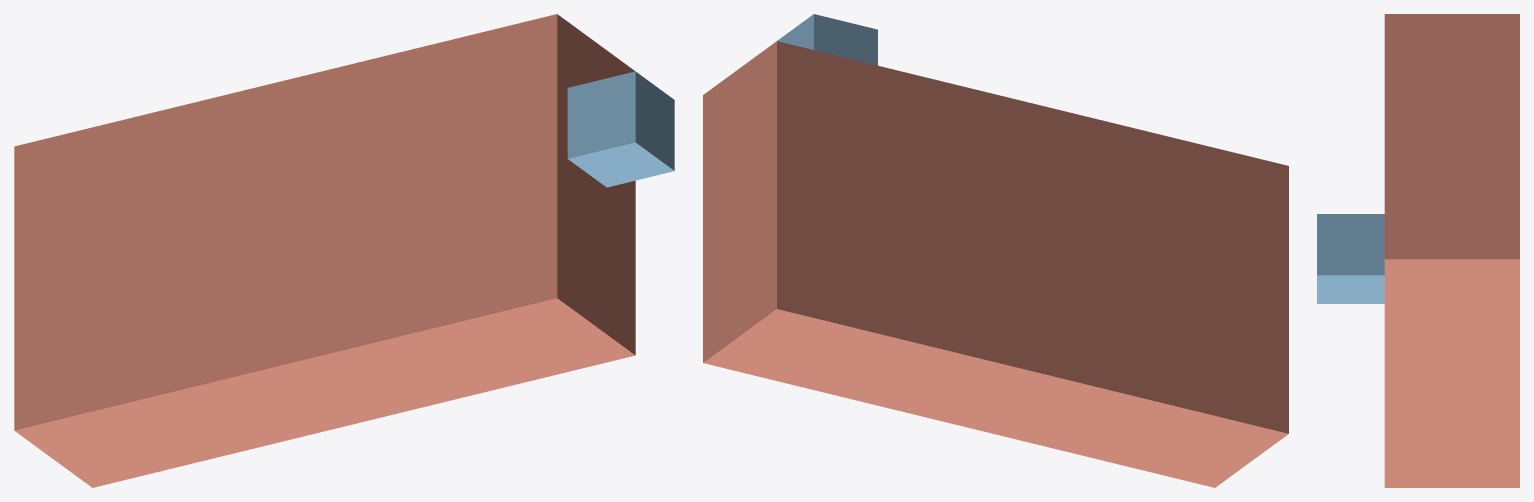
File: asymmetric-block.glb
3 views of the same model, side by side, from view 1: azimuth 30°, elevation 25°; view 2: azimuth 150°, elevation 25°; view 3: azimuth 270°, elevation 25° (orthographic). The views are drawn at different scales.
Visible parts, largest first — view 1: Block body, Corner tab; view 2: Block body, Corner tab; view 3: Block body, Corner tab.
Part boxes in pixels (bbox=[...]): Block body: bbox=[14, 14, 635, 487]; Corner tab: bbox=[567, 71, 674, 187]; Block body: bbox=[703, 41, 1288, 487]; Corner tab: bbox=[777, 14, 877, 65]; Block body: bbox=[1384, 14, 1519, 487]; Corner tab: bbox=[1317, 214, 1384, 303].
Bounding box in the file's own units: 2 × 1 × 0.75.
